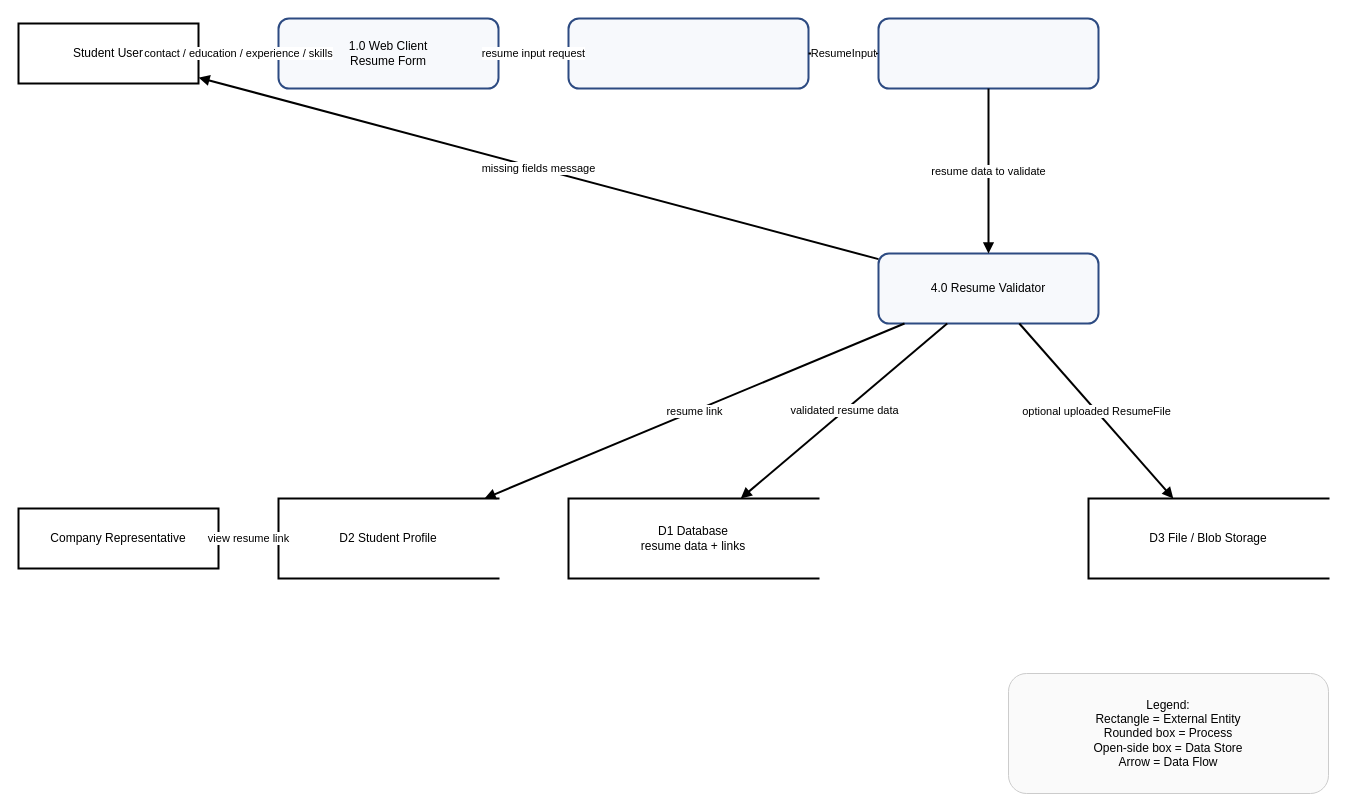
Some shapes in this 1346 by 811 pixel diagram are drawn without their labels. Each missing label, with the centre of its shape:
2.0 API Gateway / Orchestrator: (x=688, y=53)
3.0 Resume Builder: (x=988, y=53)
